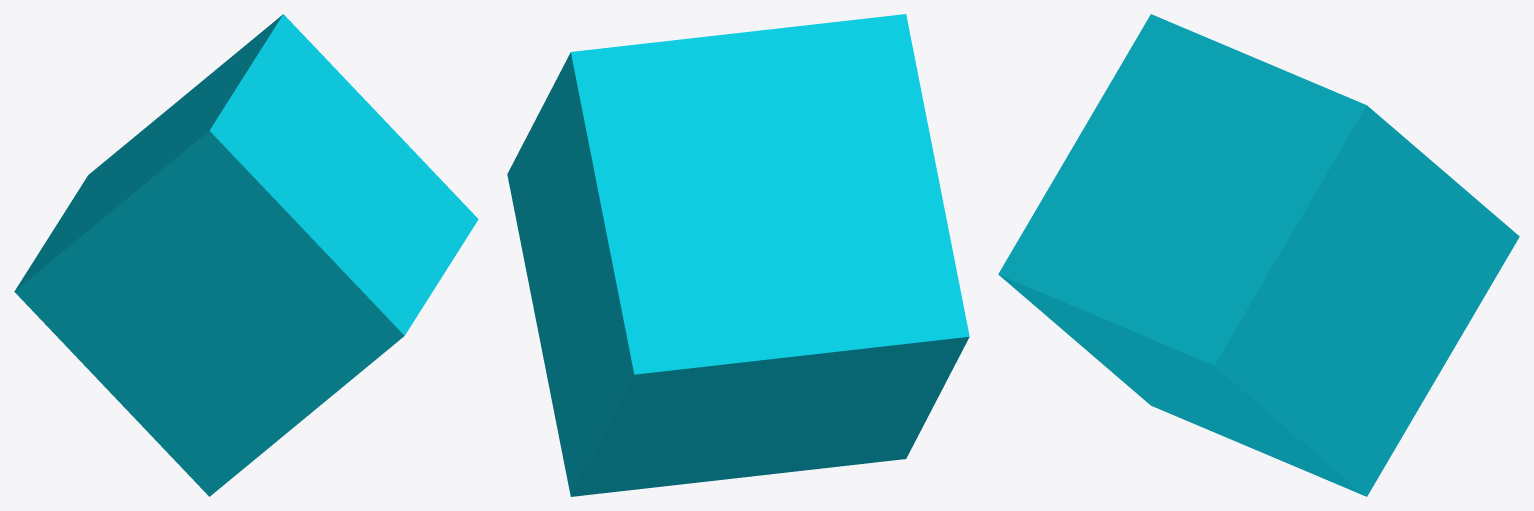
Rendered from floating cube.fbx.
3 views of the same model, side by side, from view 1: azimuth 30°, elevation 25°; view 2: azimuth 150°, elevation 25°; view 3: azimuth 270°, elevation 25° (orthographic). The views are drawn at different scales.
Parts seen in each view (by area): view 1: pCube1; view 2: pCube1; view 3: pCube1.
Part boxes in pixels (left/top/right/bottom): pCube1: left=14, top=14, right=478, bottom=496; pCube1: left=507, top=14, right=969, bottom=496; pCube1: left=998, top=14, right=1519, bottom=496.
Size of the model in its own units: 2.26 by 1.87 by 2.26.
